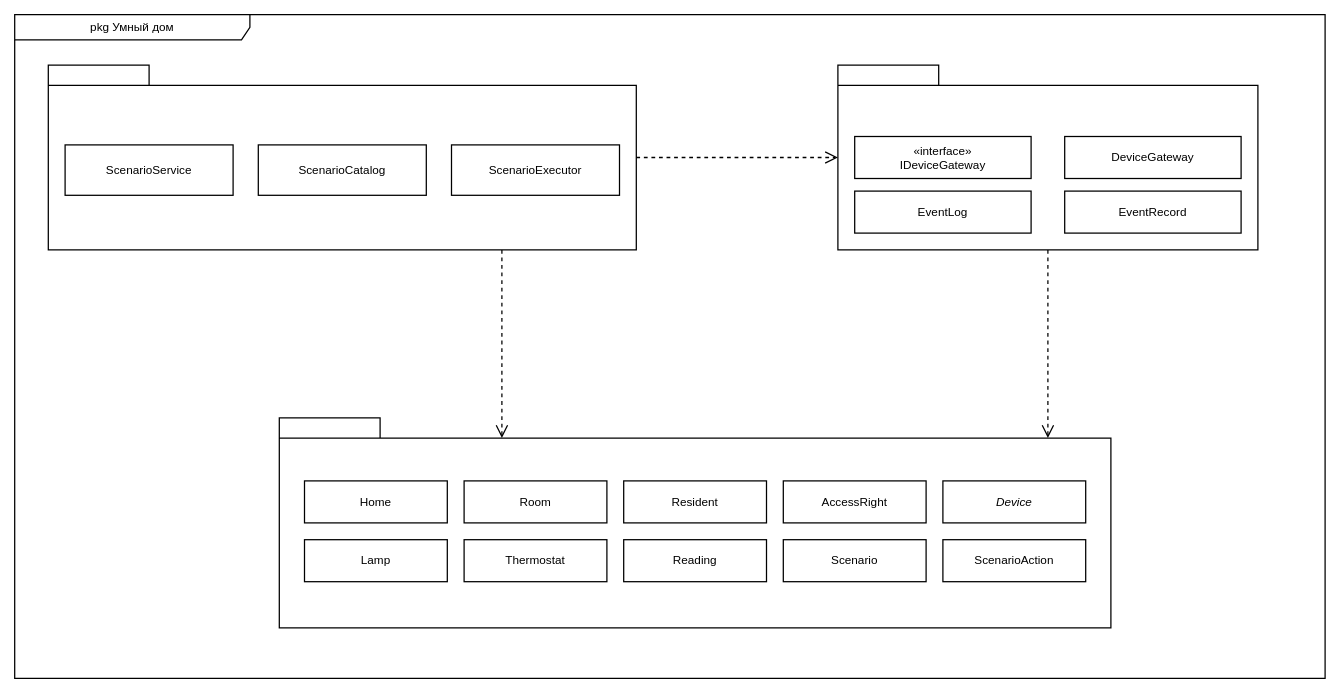
Image size: 1341x694. Some labels were removed from this diagram. The shapes that lost their labels are listed below. From the top down, each one's box as (x1, y1, x2, y2) in pixels, then its label:
(47, 64, 637, 250): Application
(837, 64, 1258, 250): Infrastructure
(278, 417, 1111, 628): Domain
